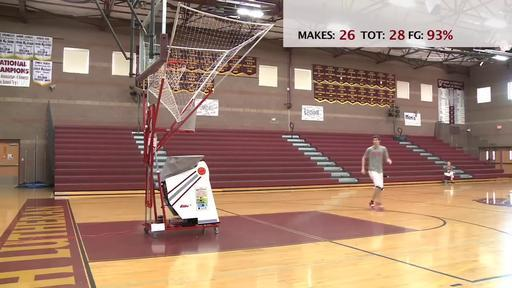human: (361, 136, 392, 209), (442, 162, 456, 183)
rim: (164, 60, 188, 85)
